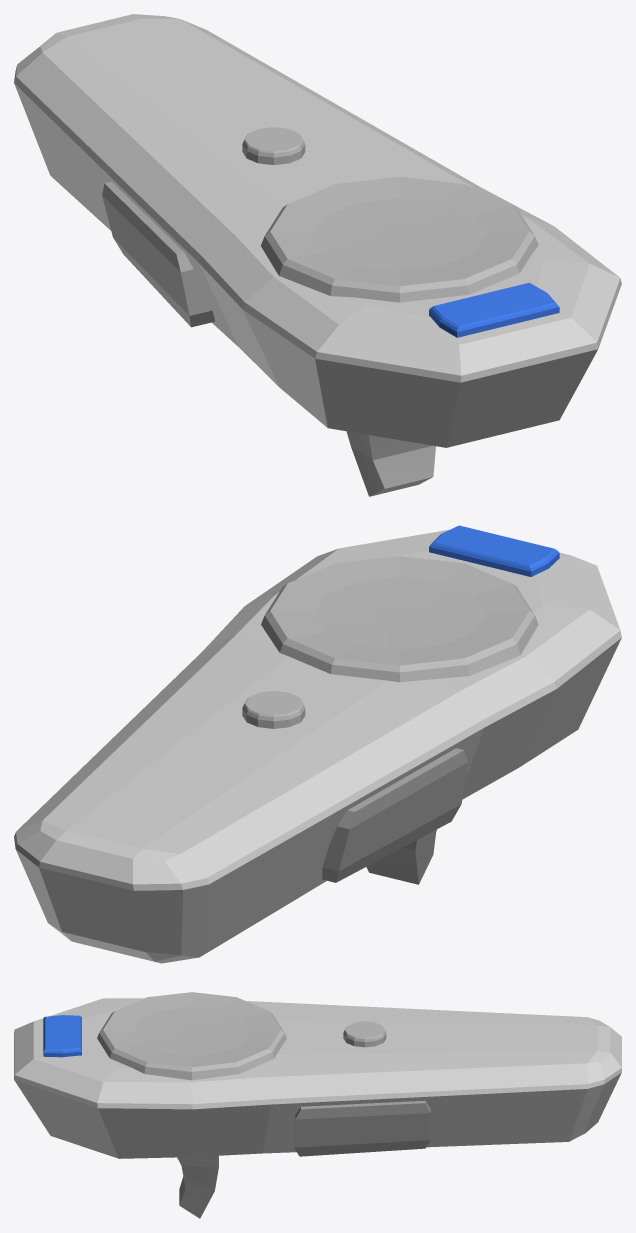
The model's file is Brush_02.fbx.
The picture shows the model from 3 angles, top to bottom: view 1: azimuth 30°, elevation 25°; view 2: azimuth 150°, elevation 25°; view 3: azimuth 270°, elevation 25°; orthographic projection. The views are drawn at different scales.
Parts seen in each view (by area): view 1: Controller_Object_002, contoller_Geo_controller_centerButton_Geo_001, Controller_gropLeft_object_002, topButton_Object_Grey_000, zClick_Object_002, contoller_Geo_controller_bottomButton_Geo_001; view 2: Controller_Object_002, contoller_Geo_controller_centerButton_Geo_001, Controller_gropLeft_object_002, topButton_Object_Grey_000, contoller_Geo_controller_bottomButton_Geo_001, zClick_Object_002; view 3: Controller_Object_002, contoller_Geo_controller_centerButton_Geo_001, Controller_gropLeft_object_002, zClick_Object_002, topButton_Object_Grey_000, contoller_Geo_controller_bottomButton_Geo_001.
Part boxes in pixels (x1,y1,x2,y2): Controller_Object_002: (14,14,621,447); contoller_Geo_controller_centerButton_Geo_001: (261,176,538,302); Controller_gropLeft_object_002: (102,181,214,327); topButton_Object_Grey_000: (429,282,559,337); zClick_Object_002: (346,431,435,496); contoller_Geo_controller_bottomButton_Geo_001: (242,127,305,164); Controller_Object_002: (14,529,621,963); contoller_Geo_controller_centerButton_Geo_001: (261,556,538,682); Controller_gropLeft_object_002: (322,748,467,882); topButton_Object_Grey_000: (429,525,559,576); contoller_Geo_controller_bottomButton_Geo_001: (242,691,305,728); zClick_Object_002: (366,829,436,884); Controller_Object_002: (14,998,621,1158); contoller_Geo_controller_centerButton_Geo_001: (97,992,286,1080); Controller_gropLeft_object_002: (293,1100,430,1156); zClick_Object_002: (177,1155,218,1218); topButton_Object_Grey_000: (43,1015,81,1057); contoller_Geo_controller_bottomButton_Geo_001: (343,1021,386,1047).
Size of the model in its own units: 5.77 by 4.62 by 14.08.
